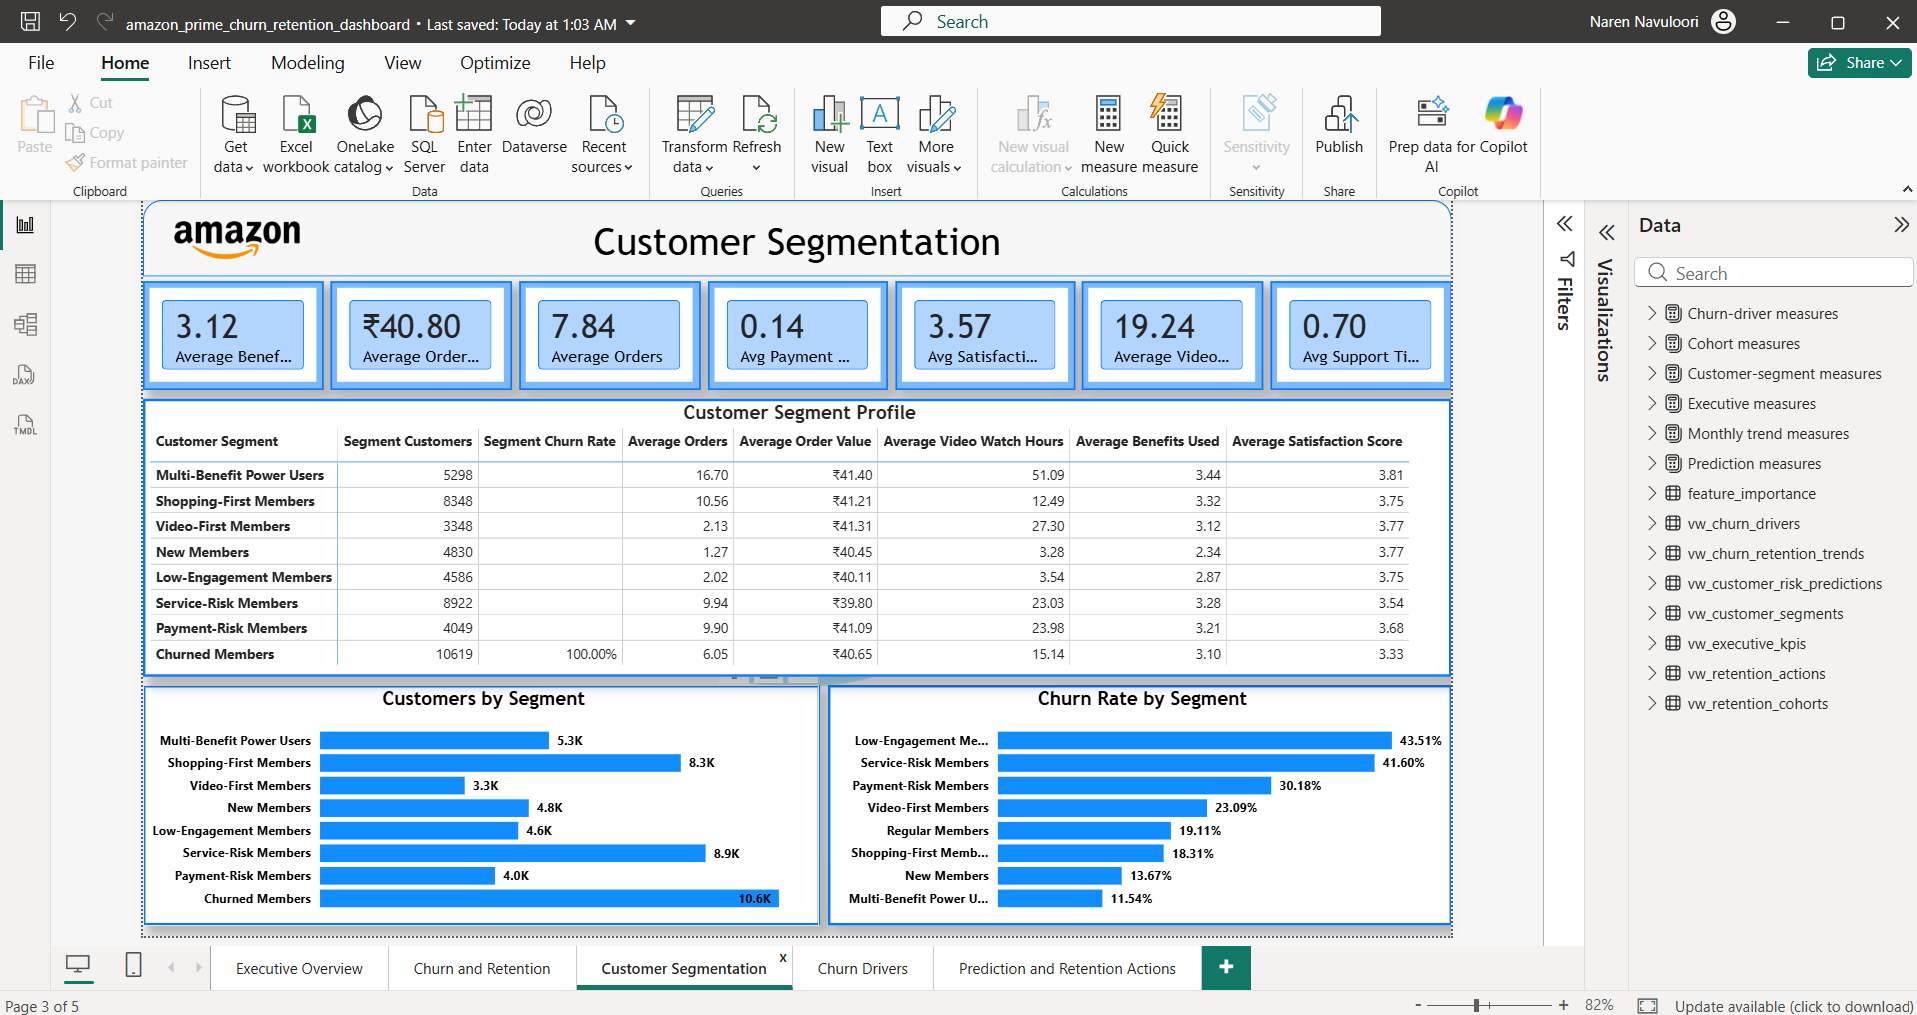

Layout of this report page (visuals, bound fields, positions):
{"tool":"powerbi","page":{"name":"Customer Segmentation","canvas":[1280,720],"ordinal":2},"visuals":[{"type":"shape","box":[0,0,1280.2,74.9],"z":0},{"type":"image","box":[11,17.1,160.2,41.6],"z":1000},{"type":"cardVisual","fields":{"Data":["Customer-segment measures.Average Benefits Used"]},"box":[0,79.5,177,106.4],"z":2000},{"type":"cardVisual","fields":{"Data":["Customer-segment measures.Average Order Value"]},"box":[184,79.5,177.3,106.4],"z":3000},{"type":"cardVisual","fields":{"Data":["Customer-segment measures.Average Orders"]},"box":[368.3,79.5,177.3,106.4],"z":4000},{"type":"cardVisual","fields":{"Data":["Customer-segment measures.Average Payment Failures"]},"box":[552.6,79.5,176.1,106.4],"z":5000},{"type":"cardVisual","fields":{"Data":["Customer-segment measures.Average Satisfaction Score"]},"box":[735.6,79.5,176.1,106.4],"z":6000},{"type":"cardVisual","fields":{"Data":["Customer-segment measures.Average Video Watch Hours"]},"box":[918.7,79.5,177.3,106.4],"z":7000},{"type":"cardVisual","fields":{"Data":["Customer-segment measures.Average Support Tickets"]},"box":[1102.7,79.5,177.3,106.4],"z":8000},{"type":"barChart","title":"Customers by Segment","fields":{"Category":["vw_customer_segments.customer_segment"],"Y":["Customer-segment measures.Segment Customers"]},"box":[0,474.6,662.2,235.4],"z":9000},{"type":"clusteredBarChart","title":"Churn Rate by Segment","fields":{"Category":["vw_customer_segments.Behavior Segment"],"Y":["Customer-segment measures.Segment Churn Rate"]},"box":[669.7,474.6,610.5,235.4],"z":10000},{"type":"pivotTable","title":"Customer Segment Profile","fields":{"Rows":["vw_customer_segments.customer_segment"],"Values":["Customer-segment measures.Segment Customers","Customer-segment measures.Segment Churn Rate","Customer-segment measures.Average Orders","Customer-segment measures.Average Order Value","Customer-segment measures.Average Video Watch Hours","Customer-segment measures.Average Benefits Used","Customer-segment measures.Average Satisfaction Score"]},"box":[0,193.9,1280.3,271.9],"z":10001}]}

Visuals, with their boxes on the page's 1280x720 design canvas (x1, y1, x2, y2). These are canvas units, not pixel positions in the 1917x1015 screenshot, which may show the page scaled, cropped or inside an application window:
shape: bbox(0, 0, 1280, 75)
image: bbox(11, 17, 171, 59)
cardVisual - Customer-segment measures.Average Benefits Used: bbox(0, 80, 177, 186)
cardVisual - Customer-segment measures.Average Order Value: bbox(184, 80, 361, 186)
cardVisual - Customer-segment measures.Average Orders: bbox(368, 80, 546, 186)
cardVisual - Customer-segment measures.Average Payment Failures: bbox(553, 80, 729, 186)
cardVisual - Customer-segment measures.Average Satisfaction Score: bbox(736, 80, 912, 186)
cardVisual - Customer-segment measures.Average Video Watch Hours: bbox(919, 80, 1096, 186)
cardVisual - Customer-segment measures.Average Support Tickets: bbox(1103, 80, 1280, 186)
"Customers by Segment" barChart: bbox(0, 475, 662, 710)
"Churn Rate by Segment" clusteredBarChart: bbox(670, 475, 1280, 710)
"Customer Segment Profile" pivotTable: bbox(0, 194, 1280, 466)
